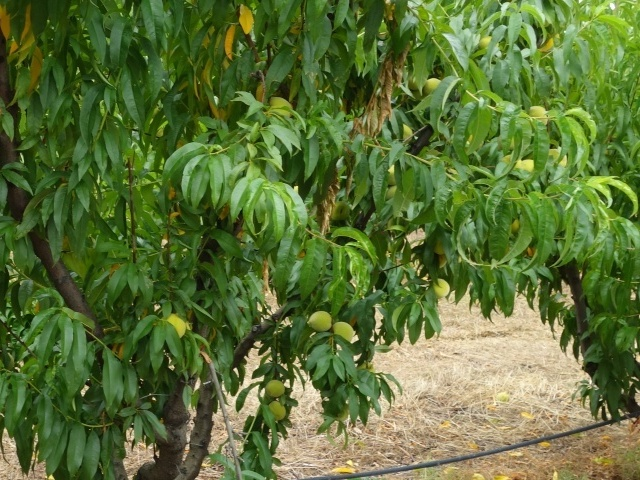peach: (305, 304, 334, 336), (159, 312, 188, 342), (329, 319, 356, 348), (265, 398, 290, 426), (427, 273, 450, 302), (263, 376, 287, 403), (421, 75, 445, 98), (526, 101, 550, 123)
